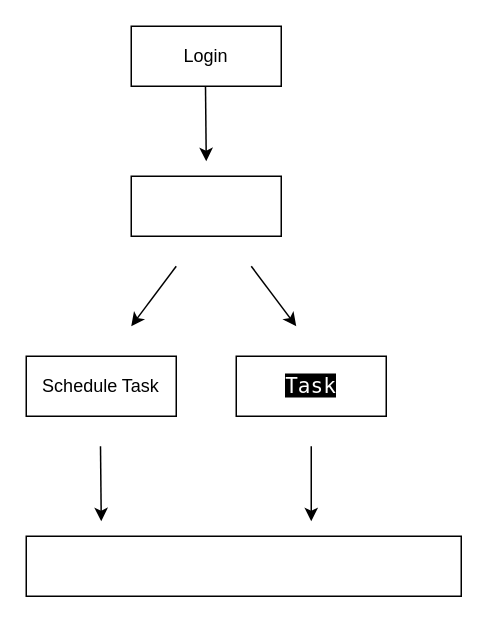
This 488x623 diagram has some shape labels left out. The centre of each missing label's shape, as x and y in pixels:
"Home" belongs at pixel 205 205.
"Time Slot List" belongs at pixel 243 565.
